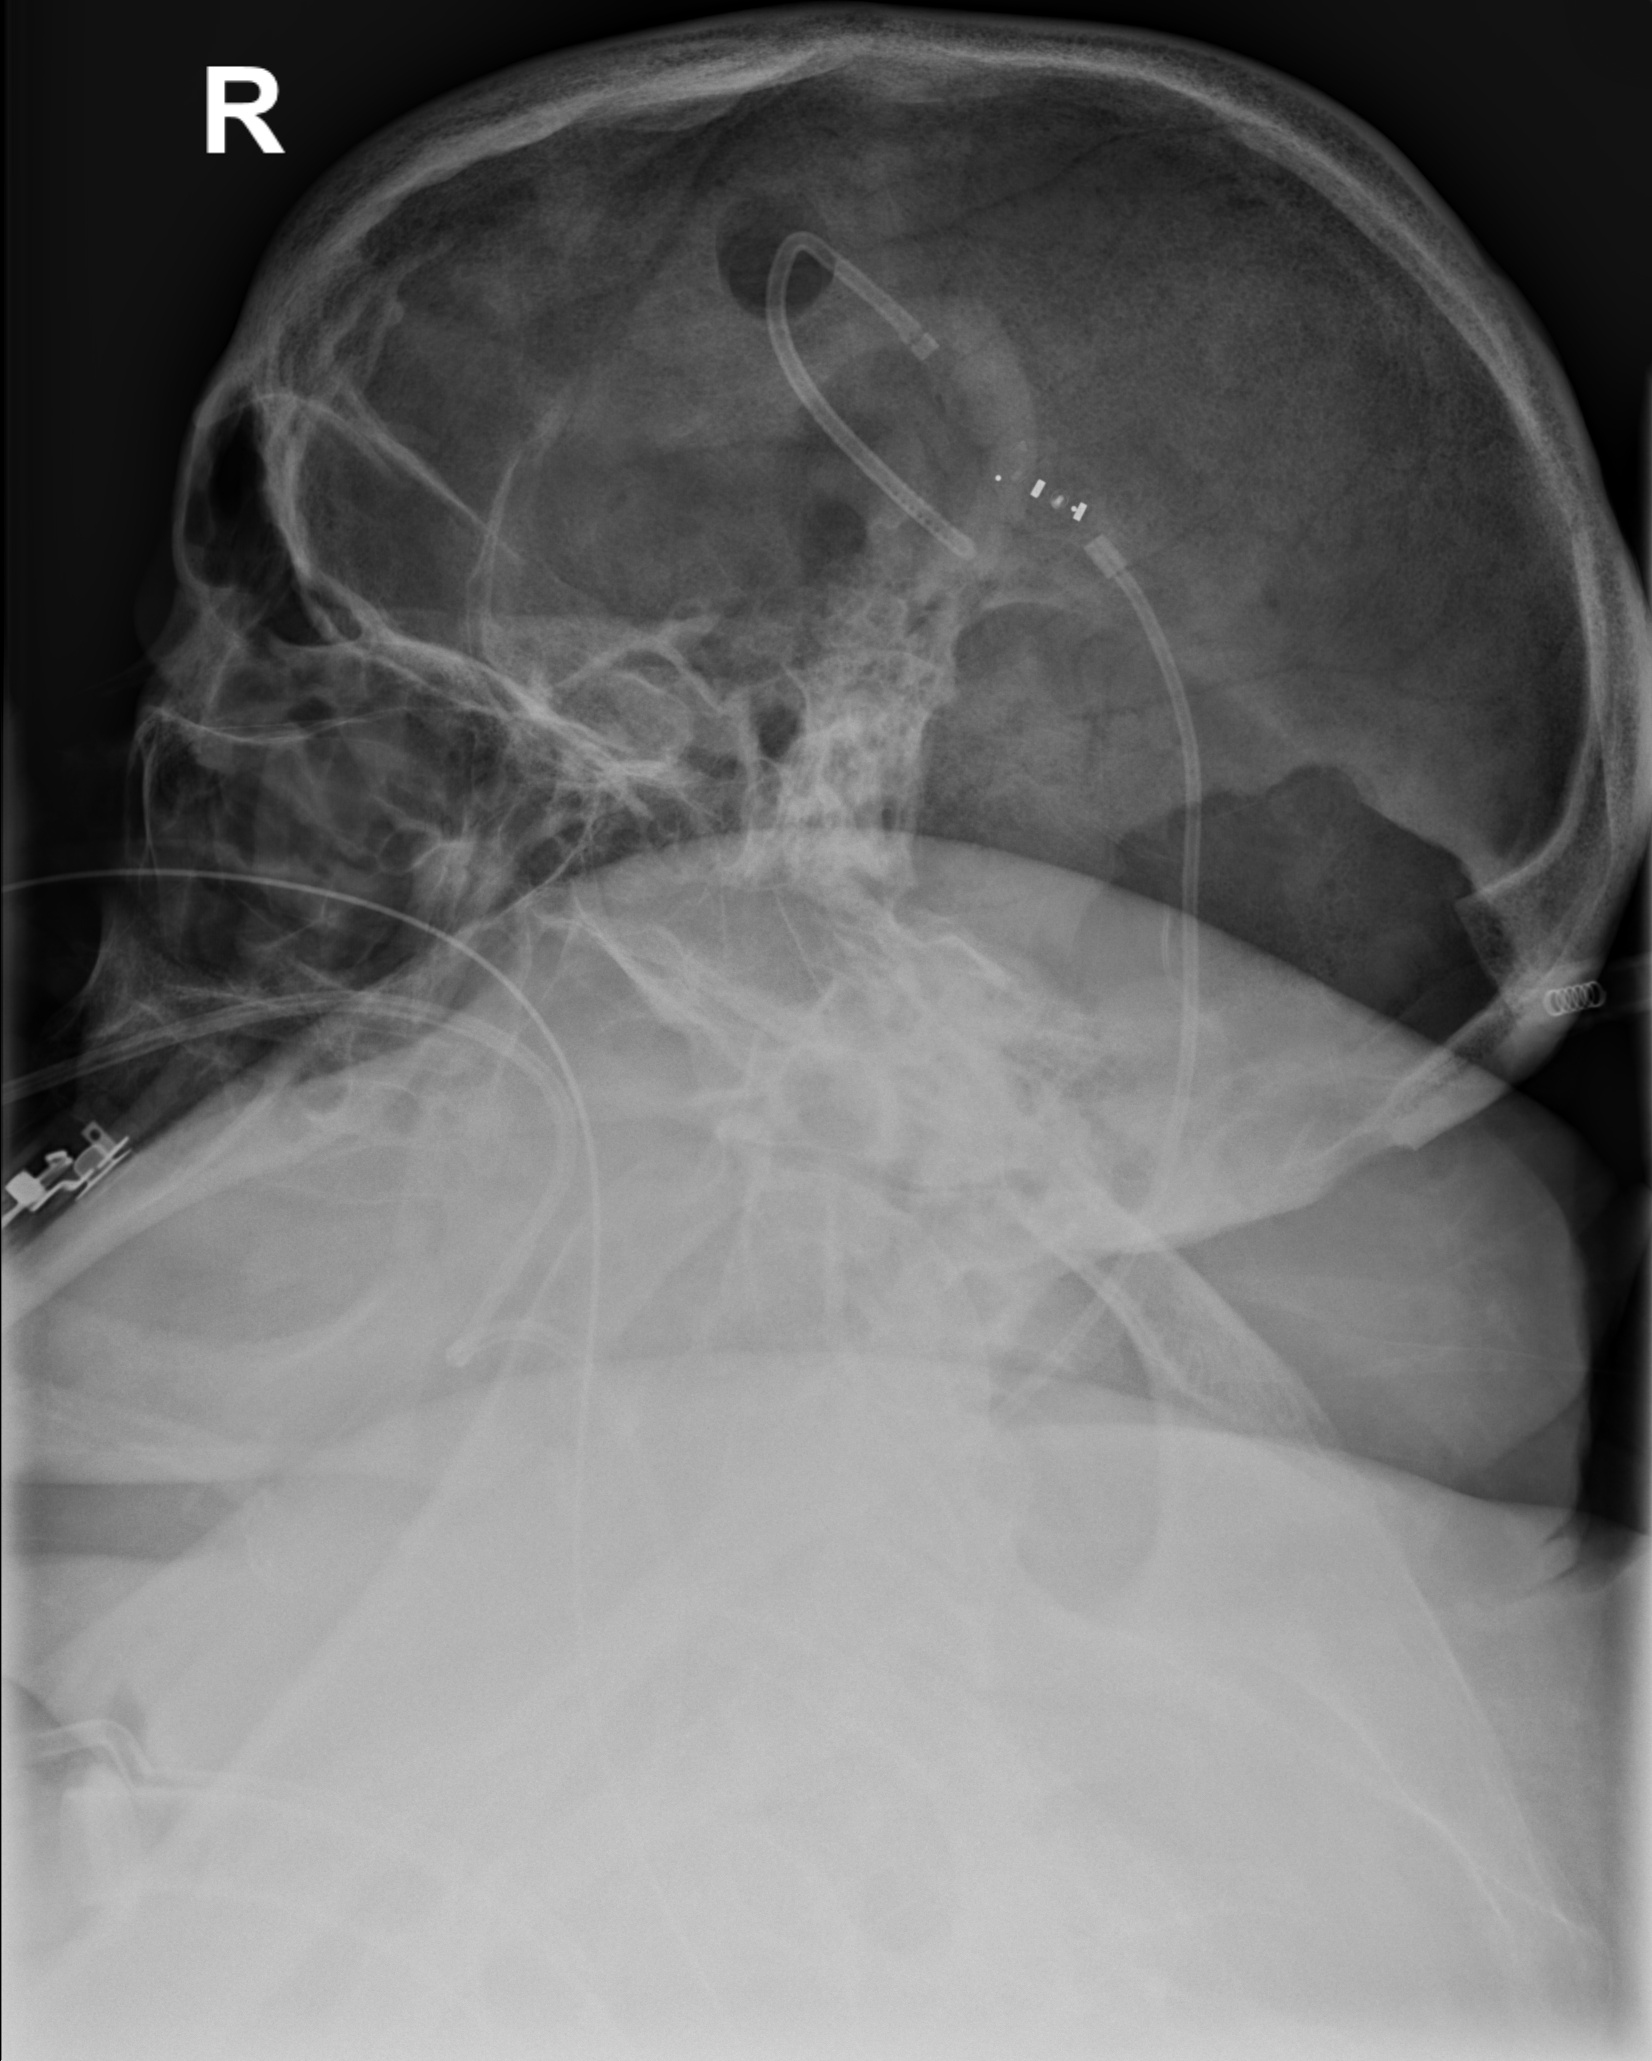Codman Certas: (974, 435, 1133, 573)
